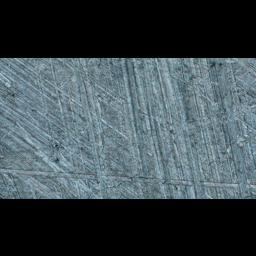d: (0, 94, 255, 168), (70, 57, 129, 198), (0, 164, 256, 194)
